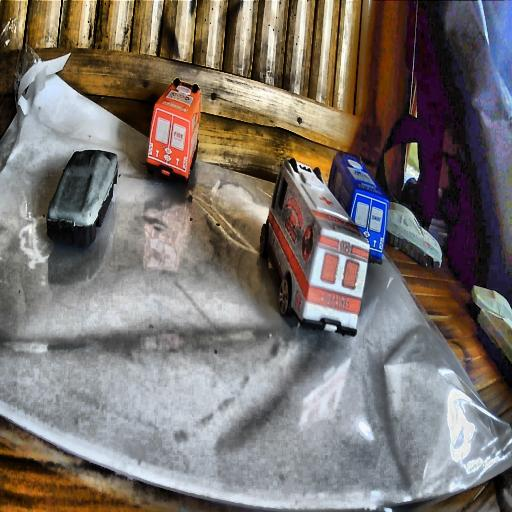ambulance: (261, 168, 361, 334)
fire_truck: (145, 77, 202, 186)
normal_car: (45, 146, 120, 250), (384, 202, 442, 270)
police car: (328, 150, 389, 272)
